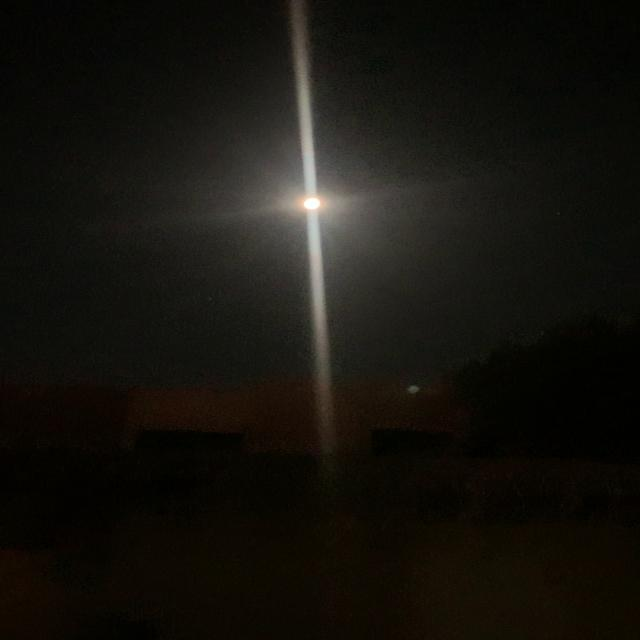moon: (282, 188, 344, 222)
